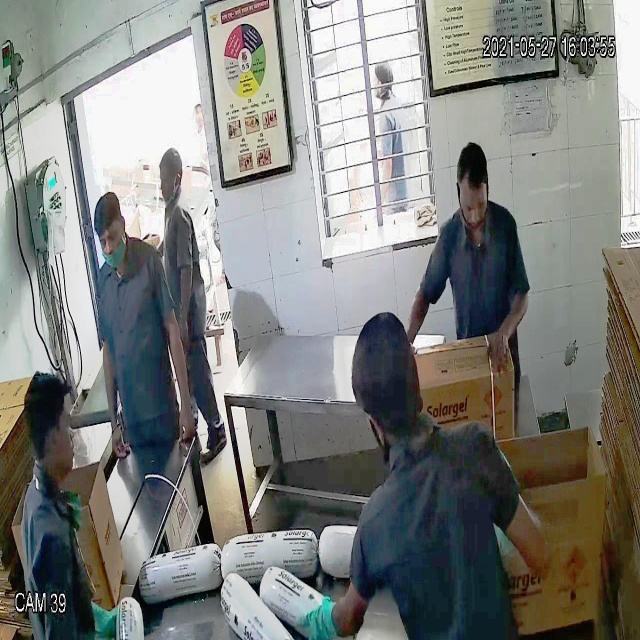Sin_gafas: (454, 187, 492, 220), (95, 223, 126, 254)
